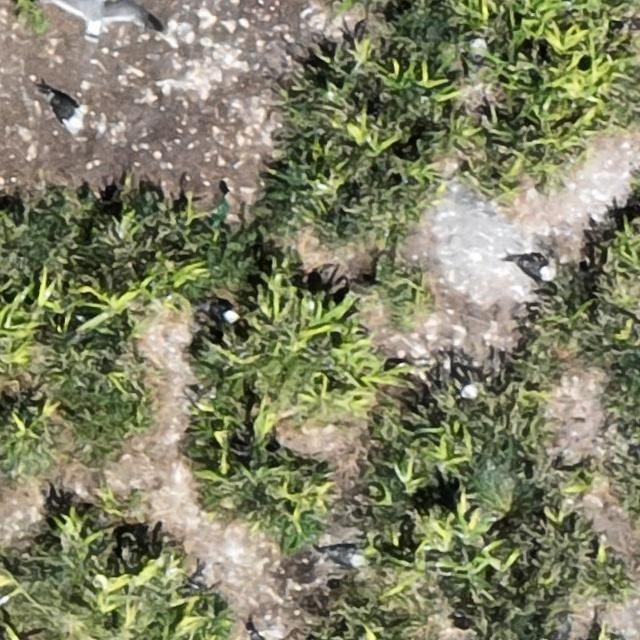F: (54, 0, 156, 44)
umineko: (508, 250, 554, 280), (47, 96, 84, 129), (328, 546, 367, 569), (204, 300, 239, 322)
